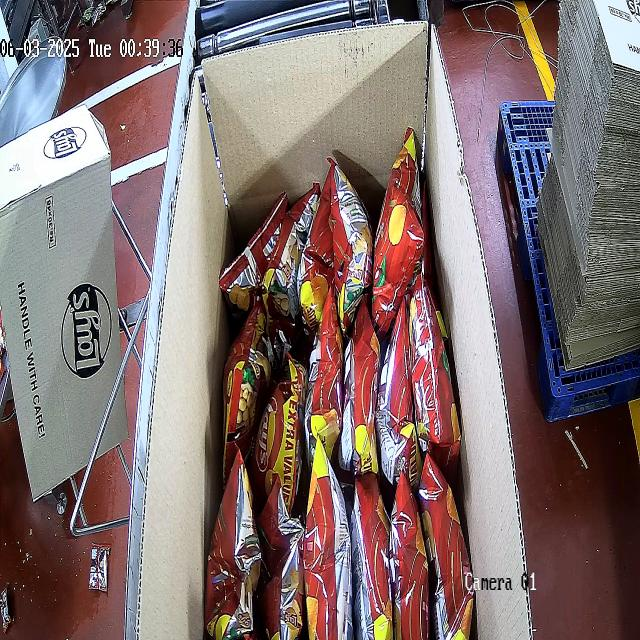MASALA: (204, 128, 475, 638)
